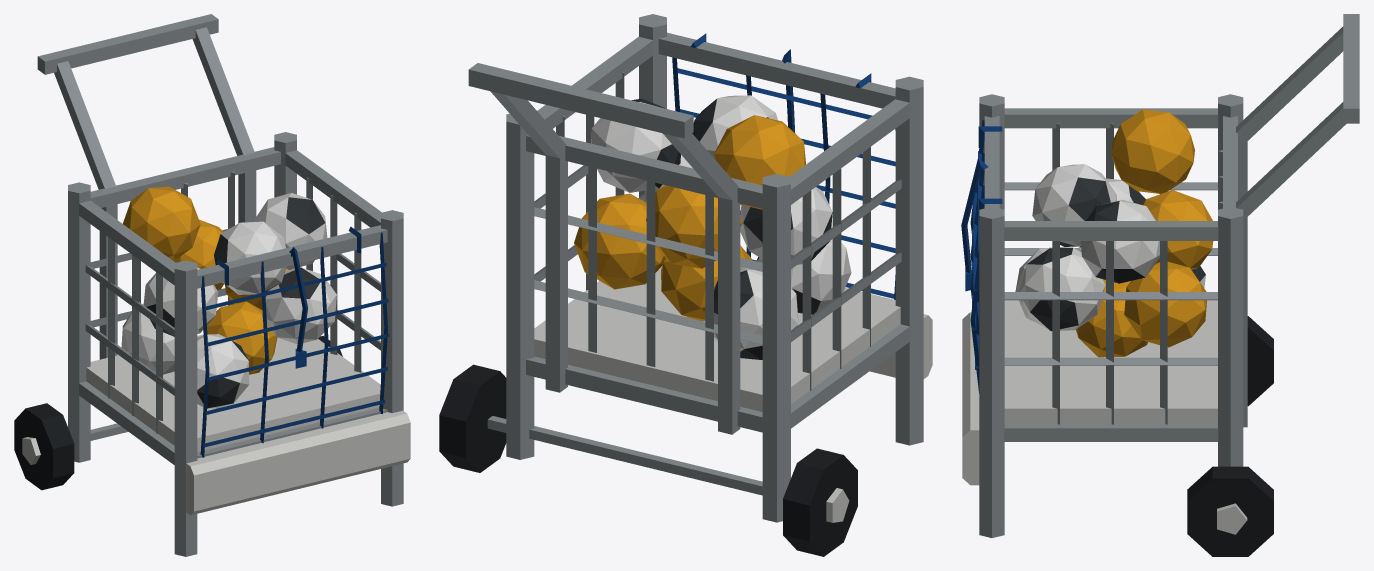
Rendered from ball-cart-8274fd.glb.
3 views of the same model, side by side, from view 1: azimuth 30°, elevation 25°; view 2: azimuth 150°, elevation 25°; view 3: azimuth 270°, elevation 25° (orthographic). The views are drawn at different scales.
Visible parts, largest first — view 1: cart-frame, ball-heap, net-door-mesh, wheel-l-mesh, ball-mesh; view 2: cart-frame, ball-heap, wheel-l-mesh, wheel-r-mesh, ball-mesh, net-door-mesh; view 3: cart-frame, ball-heap, wheel-r-mesh, ball-mesh, net-door-mesh, wheel-l-mesh.
Boxes of the visible parts, x1,y1,x2,y2 form: cart-frame: (37, 14, 410, 556); ball-heap: (121, 193, 336, 408); net-door-mesh: (200, 226, 389, 457); wheel-l-mesh: (14, 403, 74, 490); ball-mesh: (123, 186, 200, 260); cart-frame: (468, 14, 932, 522); ball-heap: (574, 95, 851, 359); wheel-l-mesh: (783, 448, 857, 556); wheel-r-mesh: (439, 364, 506, 472); ball-mesh: (714, 115, 805, 209); net-door-mesh: (672, 33, 895, 299); cart-frame: (962, 14, 1359, 537); ball-heap: (1015, 164, 1213, 357); wheel-r-mesh: (1187, 466, 1273, 556); ball-mesh: (1111, 109, 1194, 193); net-door-mesh: (961, 120, 1002, 393); wheel-l-mesh: (1247, 316, 1273, 406).
Size of the model in its own units: 1 by 1.15 by 1.
